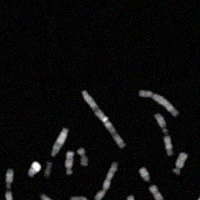chromosome: (82, 89, 126, 148), (139, 91, 180, 117), (94, 161, 118, 200), (154, 113, 173, 155), (51, 128, 68, 157), (4, 168, 16, 200), (173, 152, 189, 175), (183, 181, 200, 200), (64, 152, 75, 175), (149, 185, 165, 200), (27, 162, 41, 178), (40, 194, 77, 200), (77, 147, 88, 166), (139, 168, 150, 182), (127, 195, 154, 200), (44, 160, 51, 177), (70, 195, 88, 200)
